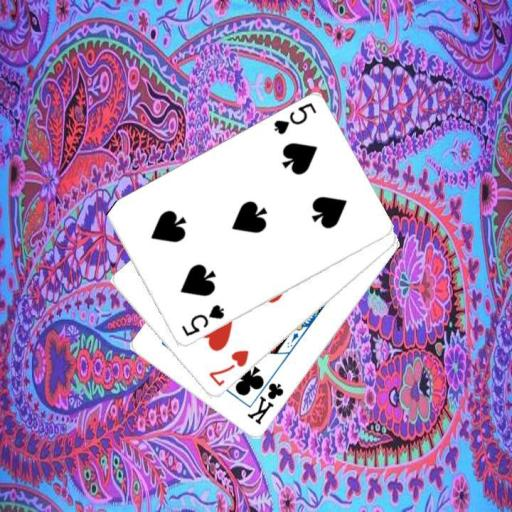5S: (270, 100, 318, 137), (179, 302, 226, 339)
7H: (206, 347, 251, 389)
KC: (244, 371, 285, 427)
